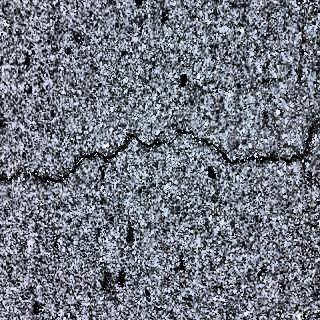crack: (0, 128, 320, 186)
